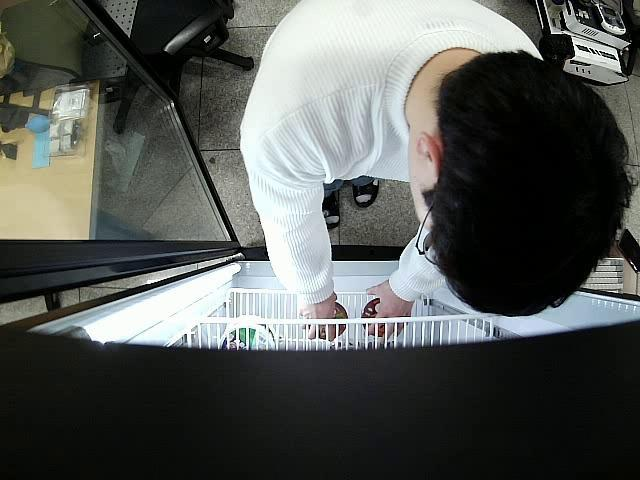06_nuguri_S: (311, 303, 348, 339), (362, 300, 396, 336)
